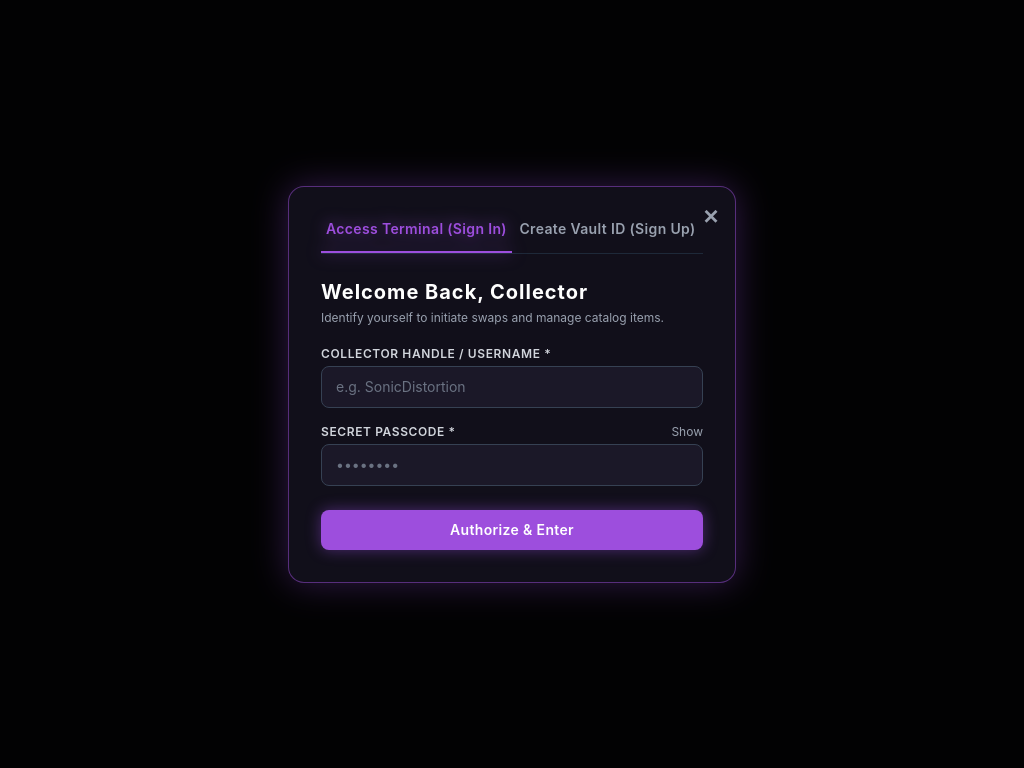
Test case: AuthModal Component › displays client validation error for short input
Type "ab" into the field with placeholder "e.g. SonicDistortion" at (512, 386), box [321,366,703,408]
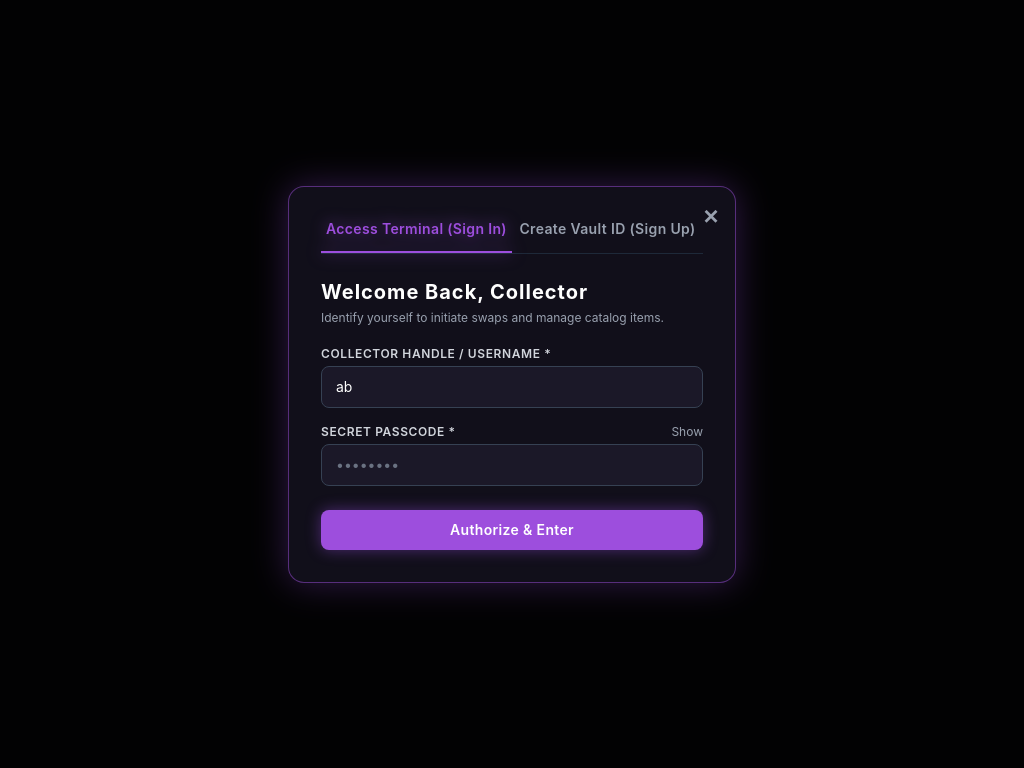
Type "123" into the password field with placeholder "••••••••" at (512, 464), box [321,444,703,486]
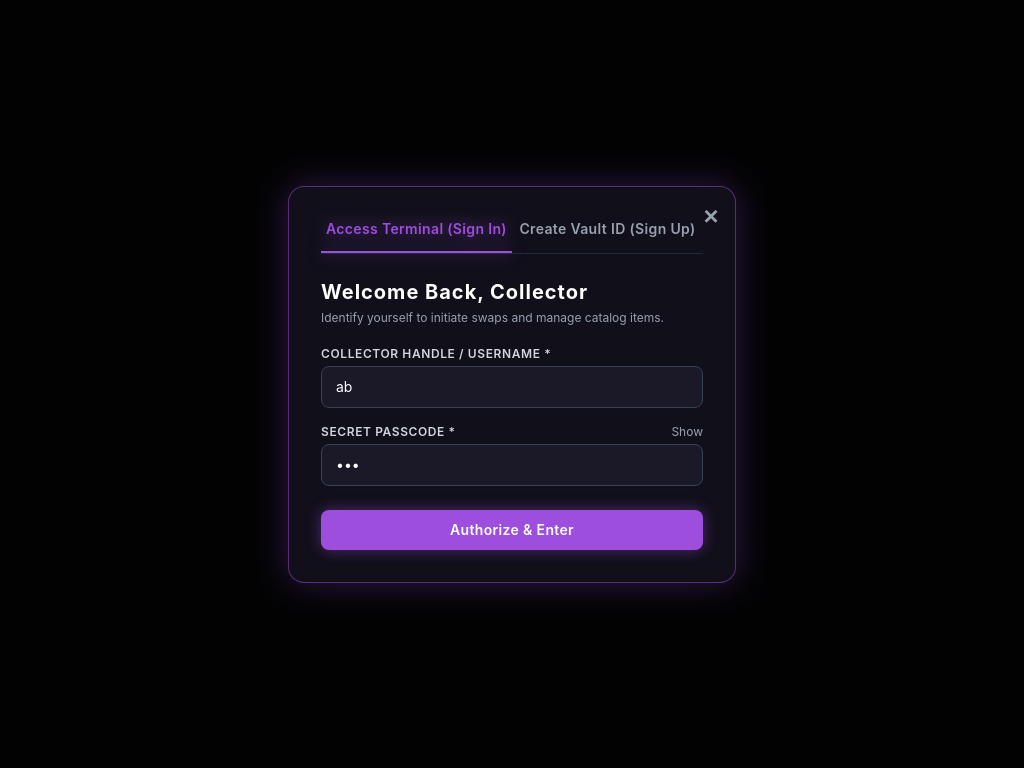
Click the button "Authorize & Enter" at (512, 530), box [321,510,703,550]
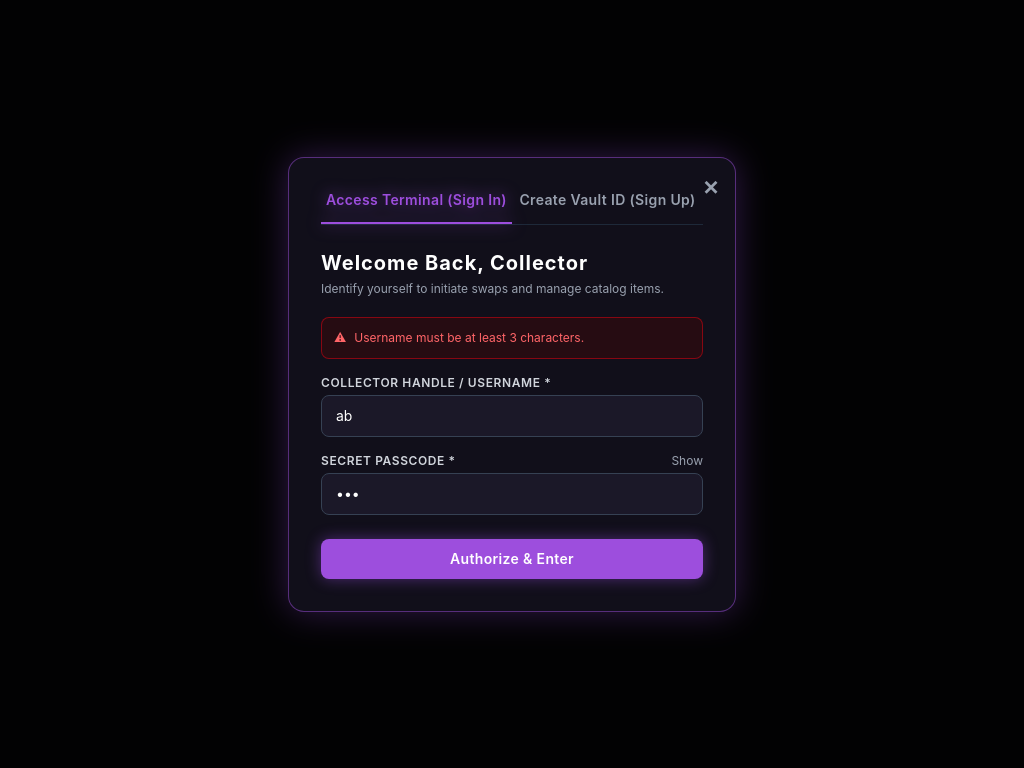
Expected: the text "Username must be at least 3 characters." is shown, [354,330,584,346]
